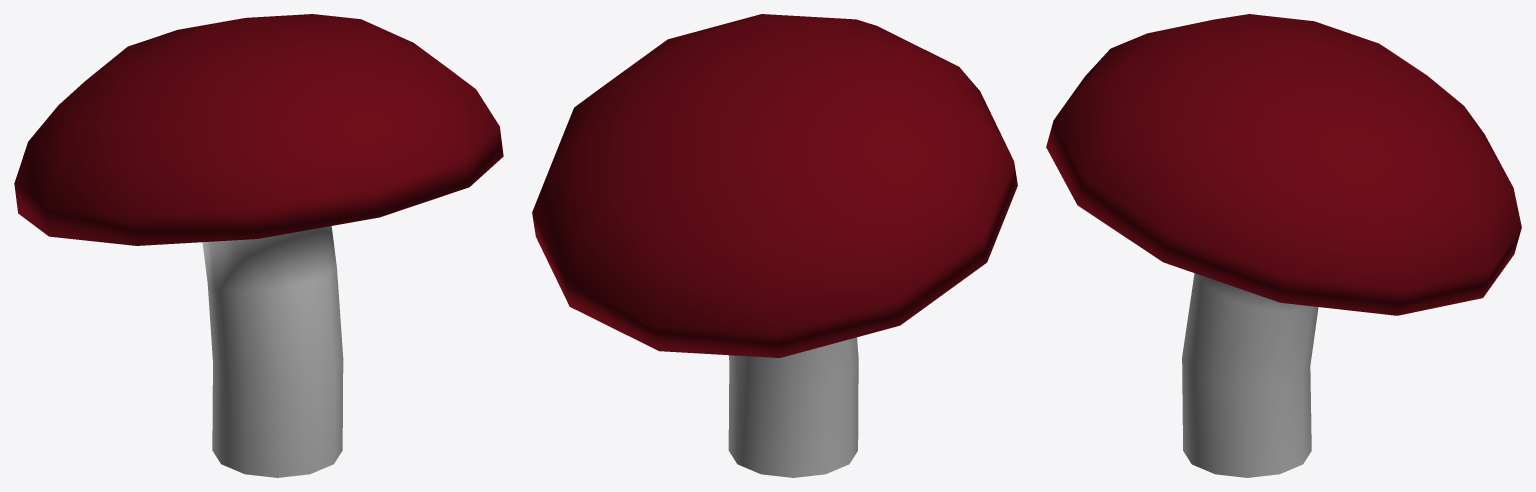
3 renders of one model, left to right at view 1: azimuth 30°, elevation 25°; view 2: azimuth 150°, elevation 25°; view 3: azimuth 270°, elevation 25°, orthographic.
Visible parts, largest first — view 1: SM_BO_Mushroom_LOD0; view 2: SM_BO_Mushroom_LOD0; view 3: SM_BO_Mushroom_LOD0.
Boxes of the visible parts, bbox=[...] form: SM_BO_Mushroom_LOD0: bbox=[14, 14, 503, 477]; SM_BO_Mushroom_LOD0: bbox=[532, 14, 1017, 477]; SM_BO_Mushroom_LOD0: bbox=[1046, 14, 1521, 477].
Bounding box in the file's own units: 0.5077 × 0.467 × 0.5002.
